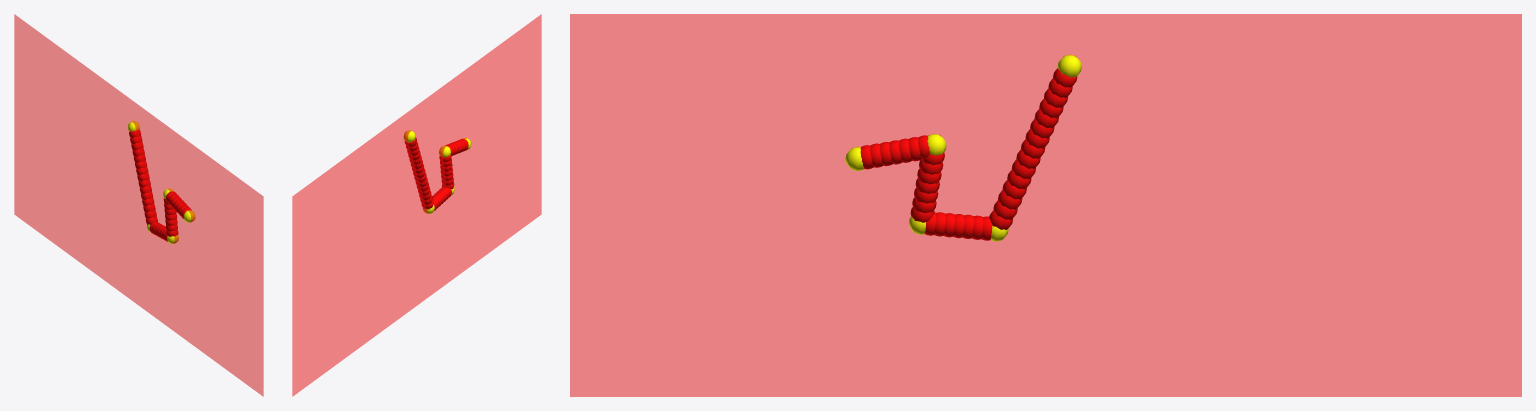
3 views of the same model, side by side, from view 1: azimuth 30°, elevation 25°; view 2: azimuth 150°, elevation 25°; view 3: azimuth 270°, elevation 25° (orthographic). The views are drawn at different scales.
Parts seen in each view (by area): view 1: wp; view 2: wp; view 3: wp.
Part boxes in pixels (x1,y1,x2,y2): wp: (14,14,263,396); wp: (292,14,541,396); wp: (570,14,1521,396).
Size of the model in its own units: 10 by 173 by 389.
